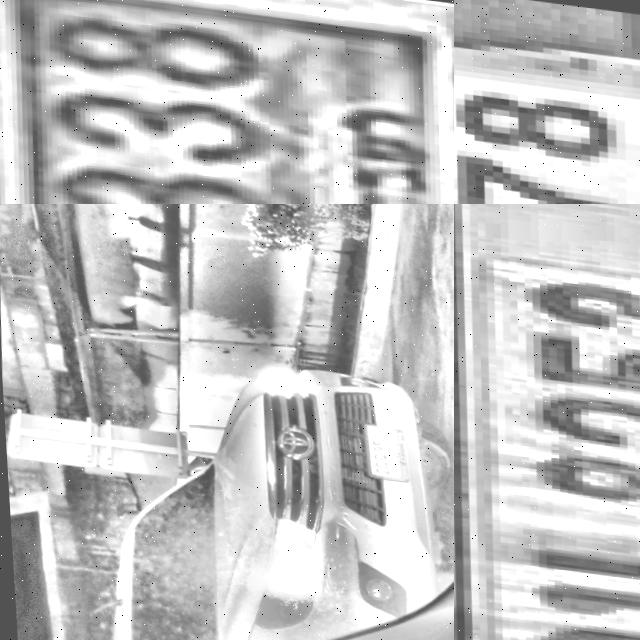license-plate: (0, 0, 454, 204), (454, 204, 640, 640), (454, 17, 640, 204), (357, 413, 409, 475)
